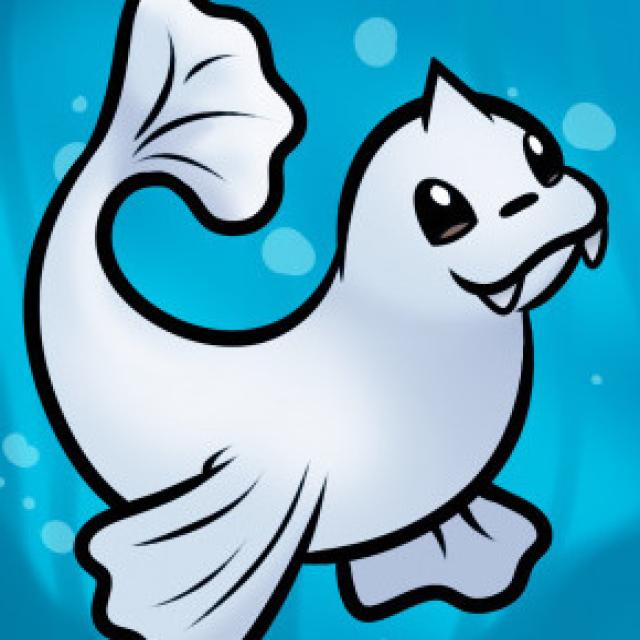Dewgong: (43, 62, 584, 574)
